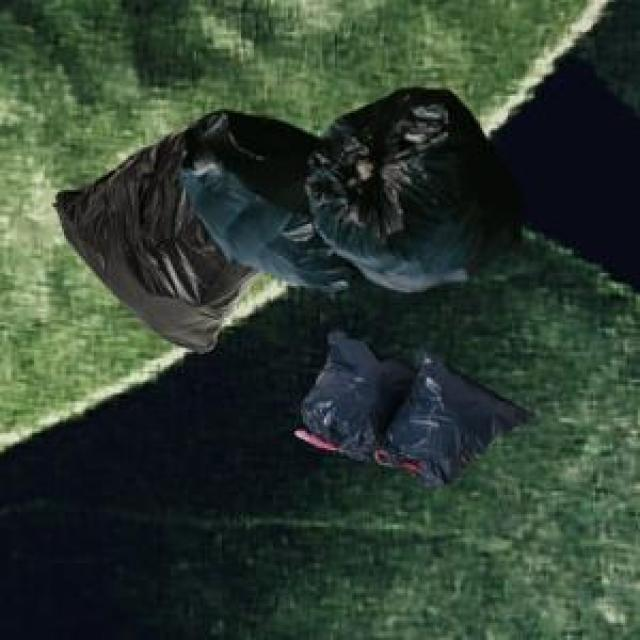waste: (56, 89, 511, 352), (295, 332, 525, 484)
